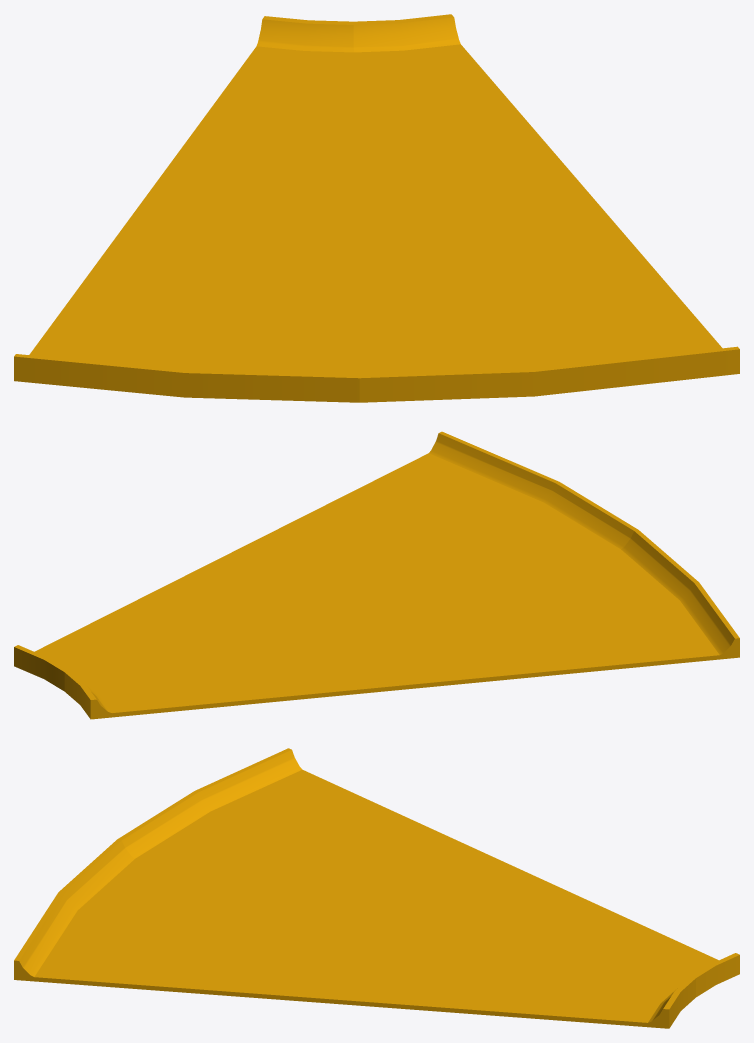
Rendered from 14mTrack_Blockout_36DTurn.fbx.
The picture shows the model from 3 angles, top to bottom: view 1: azimuth 30°, elevation 25°; view 2: azimuth 150°, elevation 25°; view 3: azimuth 270°, elevation 25°; orthographic projection. The views are drawn at different scales.
Parts seen in each view (by area): view 1: polySurface111; view 2: polySurface111; view 3: polySurface111.
Boxes of the visible parts, x1,y1,x2,y2 form: polySurface111: (14,14,739,402); polySurface111: (14,431,739,719); polySurface111: (14,748,739,1028).
Size of the model in its own units: 1301 by 45 by 1527.
